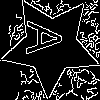A: (26, 20, 72, 58)
